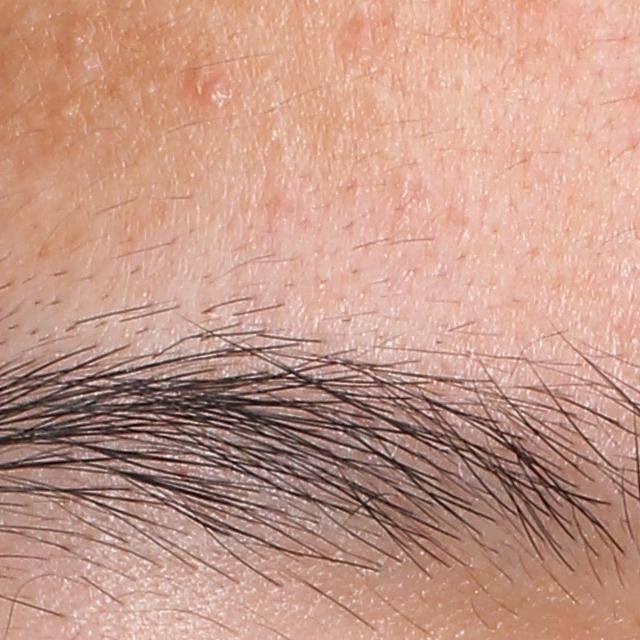comedo: (59, 16, 97, 57)
papule: (196, 71, 234, 113)
